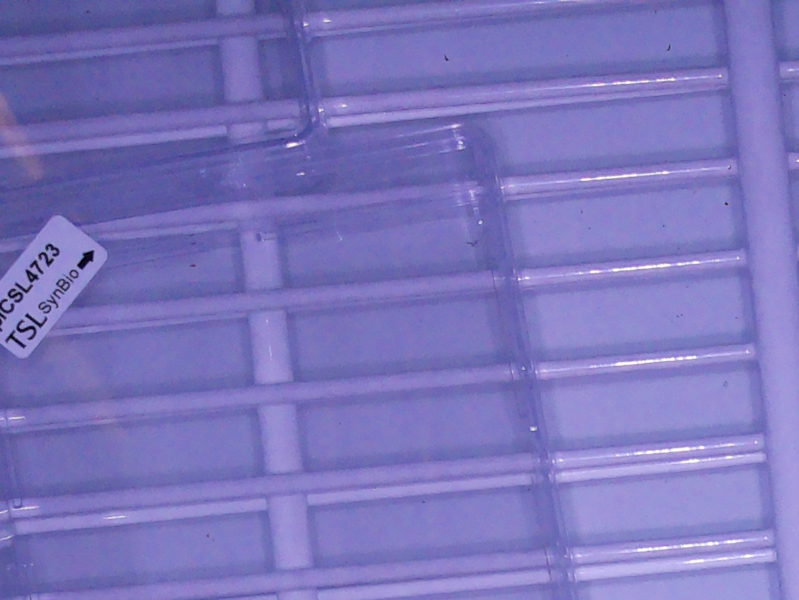plate: (1, 116, 585, 600), (1, 1, 335, 190)
